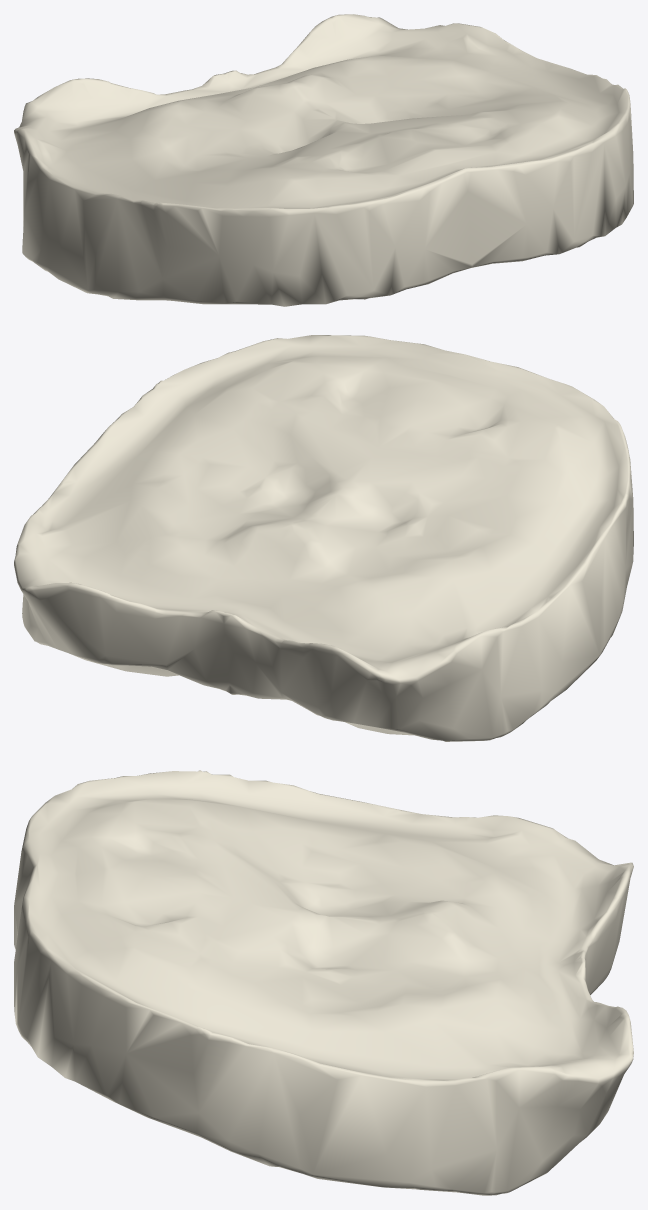
3 renders of one model, top to bottom at view 1: azimuth 30°, elevation 25°; view 2: azimuth 150°, elevation 25°; view 3: azimuth 270°, elevation 25°, orthographic. The views are drawn at different scales.
Visible parts, largest first — view 1: ZA_9a530b566540b652; view 2: ZA_9a530b566540b652; view 3: ZA_9a530b566540b652.
Boxes of the visible parts, <box> form: ZA_9a530b566540b652: <box>14,14,633,306</box>; ZA_9a530b566540b652: <box>14,335,633,741</box>; ZA_9a530b566540b652: <box>14,770,633,1195</box>.
Bounding box in the file's own units: 0.0382 × 0.0134 × 0.0354.
